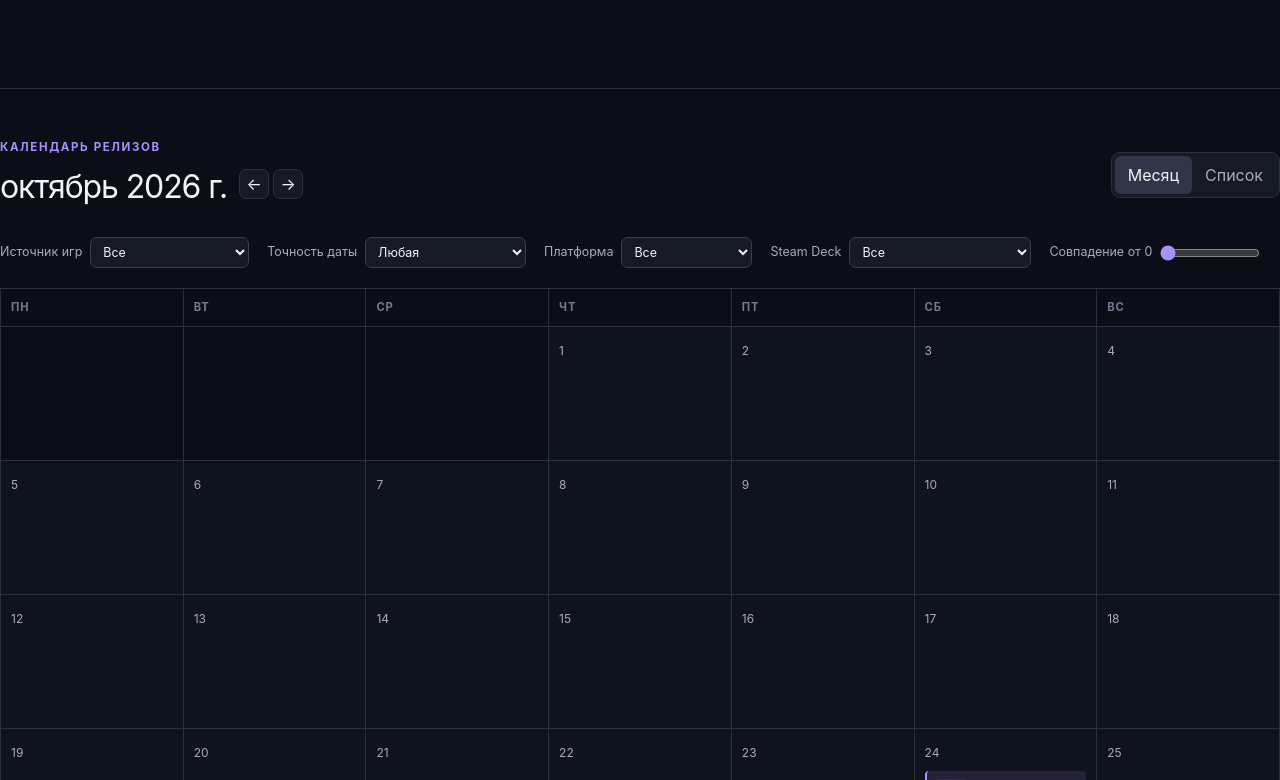
CalendarPage › shows review summaries for exact list entries and imprecise release buckets
Click the button "Список" at (1234, 175), box [1192,156,1276,194]
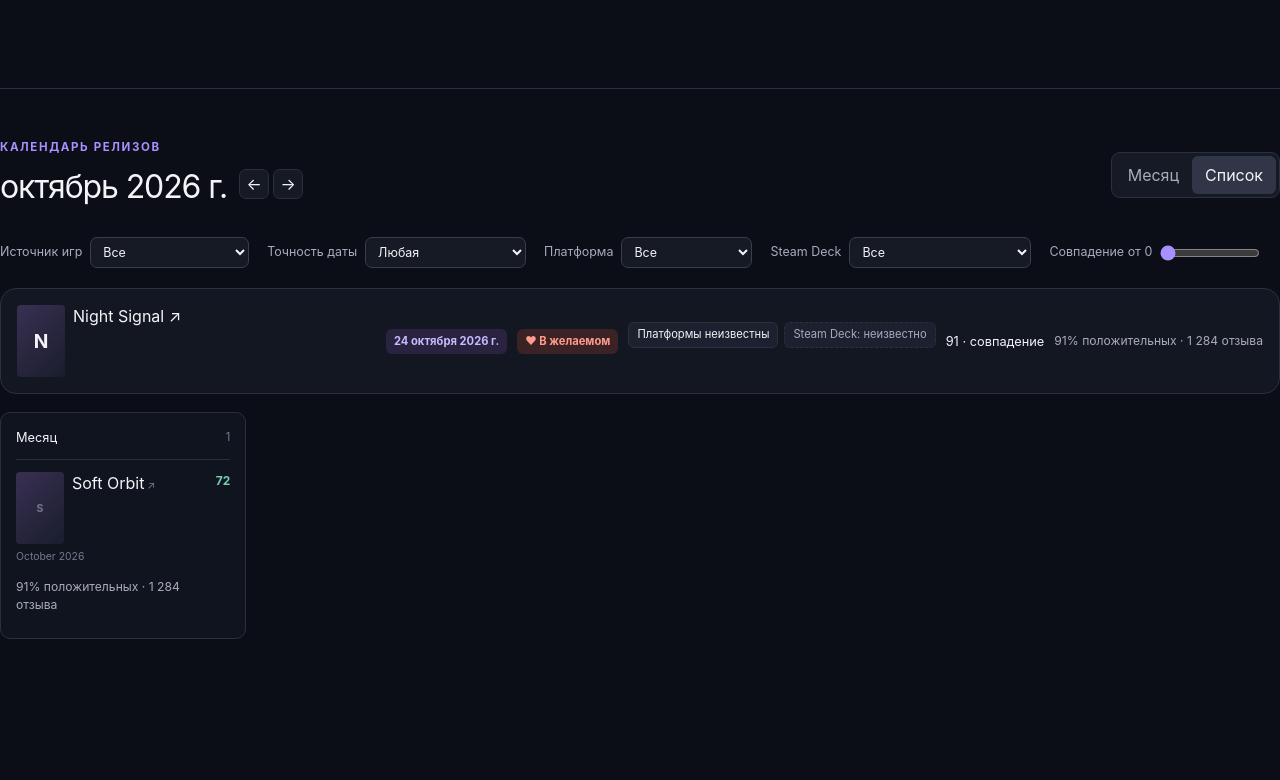
Expected: the text "91% положительных · 1 284 отзыва" below "October 2026" is shown, [16,579,180,612]
Now the text "91% положительных · 1 284 отзыва" next to "· совпадение" is shown, box [1054,333,1263,348]
